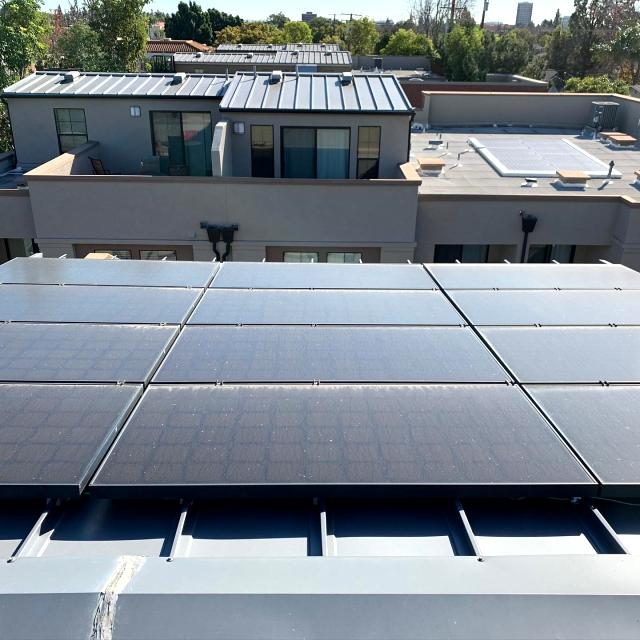dust: (140, 398, 572, 478), (197, 327, 482, 374), (0, 390, 79, 479), (14, 327, 125, 366)
